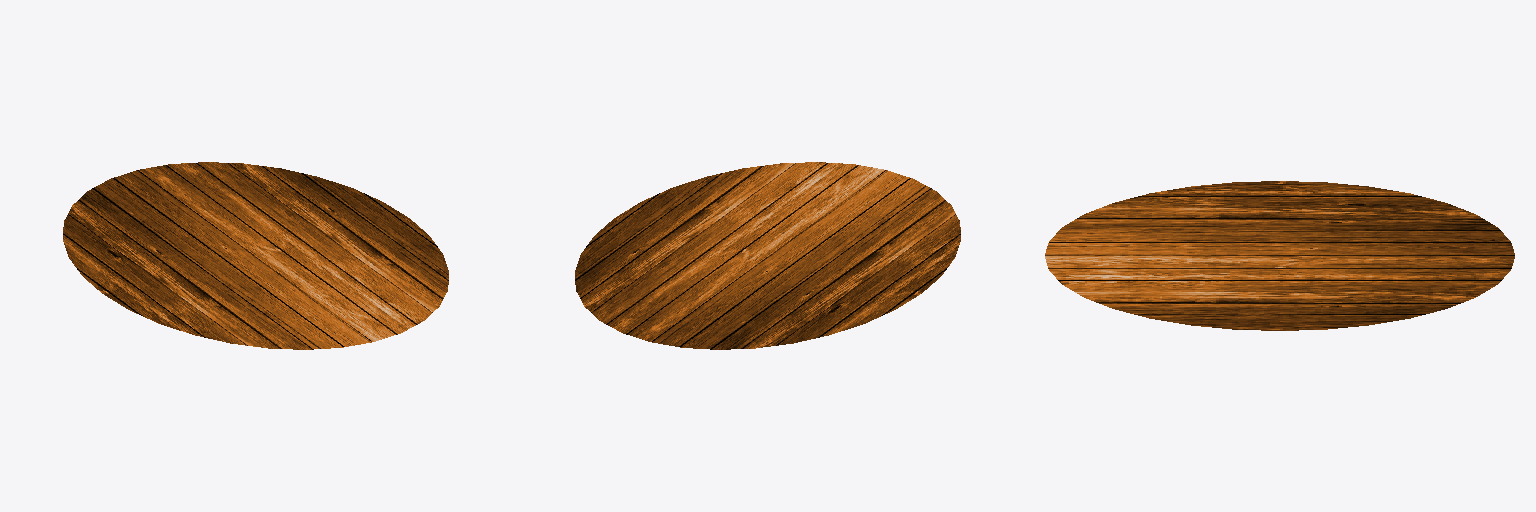
3 views of the same model, side by side, from view 1: azimuth 30°, elevation 25°; view 2: azimuth 150°, elevation 25°; view 3: azimuth 270°, elevation 25° (orthographic).
Visible parts, largest first — view 1: Cylinder; view 2: Cylinder; view 3: Cylinder.
Boxes of the visible parts, x1=… form: Cylinder: x1=63, y1=162, x2=448, y2=349; Cylinder: x1=575, y1=162, x2=960, y2=349; Cylinder: x1=1045, y1=181, x2=1514, y2=330.
Size of the model in its own units: 4.8 by 0 by 6.36.
1 materials, 1 textured.